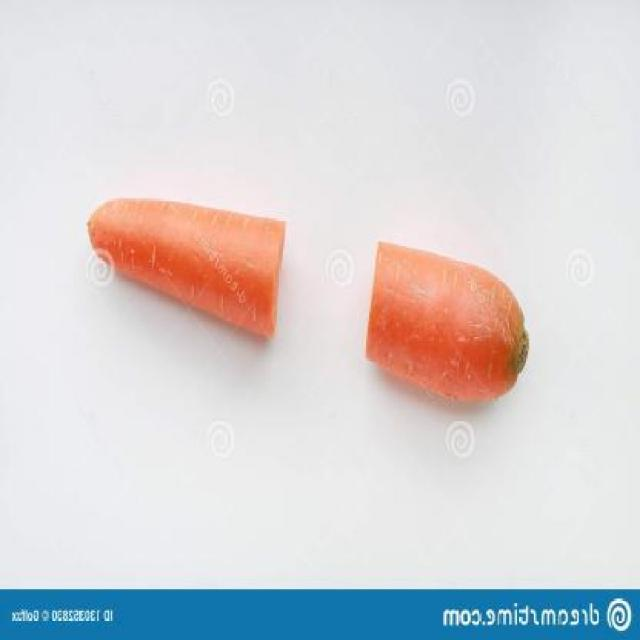carrot: (82, 192, 288, 344), (364, 237, 530, 411)
